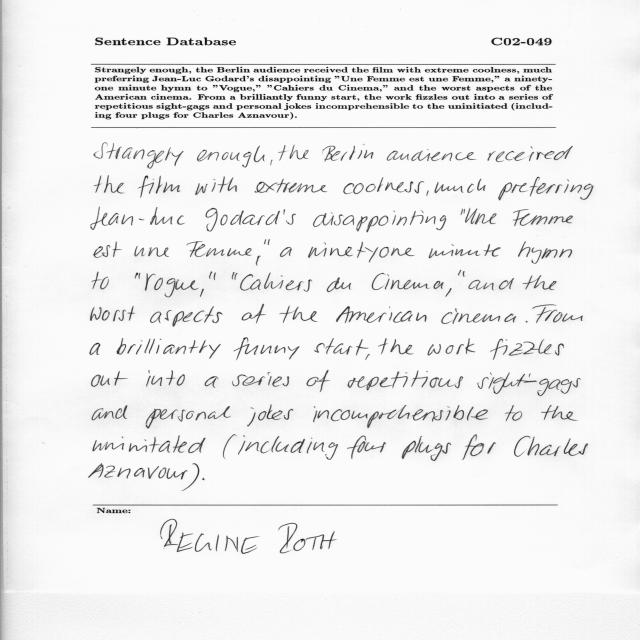word: (313, 405, 488, 428), (438, 372, 581, 396), (313, 211, 446, 233), (238, 435, 338, 460), (94, 143, 184, 169), (308, 242, 415, 263), (498, 177, 594, 200), (205, 208, 296, 232), (117, 338, 221, 359), (91, 207, 185, 230), (93, 435, 205, 453), (146, 406, 231, 428), (348, 371, 439, 391), (89, 464, 188, 480), (490, 339, 564, 360), (514, 436, 588, 457), (336, 307, 427, 324), (150, 306, 223, 327), (234, 337, 300, 360), (197, 146, 265, 168), (344, 177, 425, 194), (487, 146, 573, 162), (240, 273, 312, 292), (145, 274, 198, 298), (518, 241, 572, 264), (402, 436, 451, 461), (372, 273, 444, 290), (442, 308, 517, 324), (387, 149, 476, 161), (186, 241, 252, 257), (254, 179, 327, 193), (513, 209, 573, 226), (247, 405, 293, 427), (429, 244, 501, 258), (347, 435, 386, 459), (314, 339, 369, 356), (138, 176, 180, 198), (532, 305, 583, 323), (323, 144, 374, 161), (232, 372, 289, 387), (462, 435, 496, 460), (428, 339, 476, 356), (195, 176, 237, 195), (435, 179, 486, 193), (146, 370, 185, 387), (91, 306, 135, 321), (280, 306, 318, 323), (91, 371, 128, 387), (541, 405, 578, 421), (378, 338, 414, 354), (468, 278, 514, 290), (94, 176, 124, 194), (307, 370, 331, 392), (92, 405, 127, 420), (523, 275, 557, 290), (278, 145, 309, 161), (465, 208, 496, 224), (93, 241, 122, 258), (182, 464, 200, 491), (242, 304, 266, 324), (446, 270, 462, 297), (134, 246, 169, 257), (327, 278, 351, 293), (200, 271, 213, 297), (223, 435, 236, 459), (256, 239, 267, 266), (92, 272, 109, 289), (505, 405, 522, 421), (205, 376, 219, 388), (280, 247, 292, 257), (90, 343, 100, 355), (232, 272, 237, 280), (135, 272, 140, 279), (365, 354, 370, 360), (461, 209, 465, 215), (213, 273, 216, 281), (270, 160, 273, 165), (427, 190, 429, 196), (268, 239, 270, 245), (463, 271, 465, 277), (526, 321, 528, 323), (202, 478, 204, 480)
